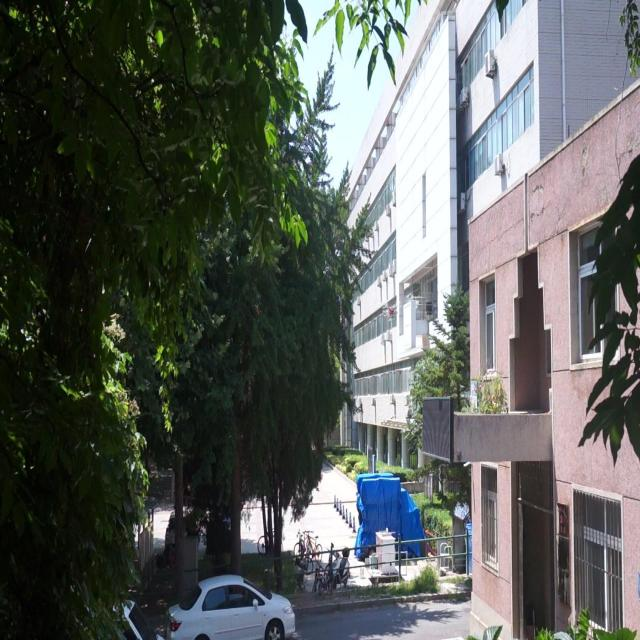UAV: (380, 301, 402, 322)
